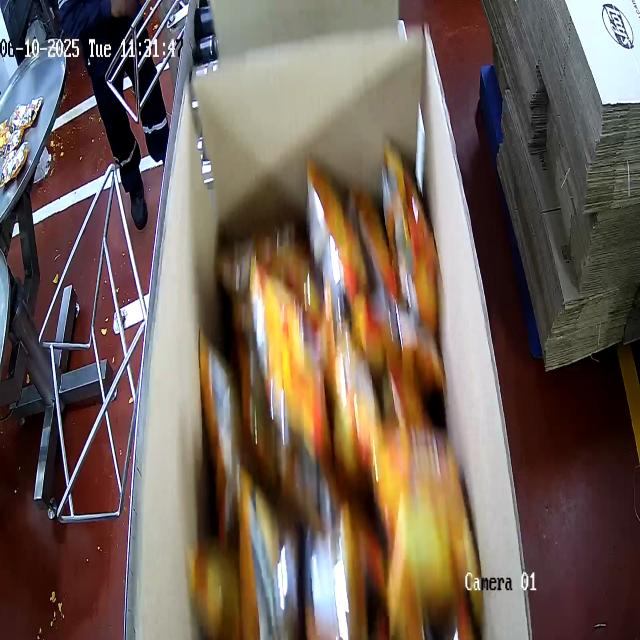FRENCH_CHEESE: (193, 159, 446, 640)
